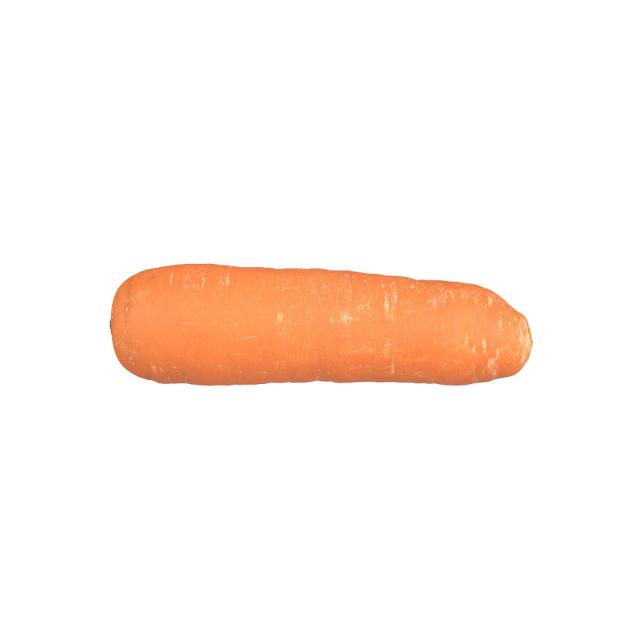Carrot: (104, 261, 536, 387)
